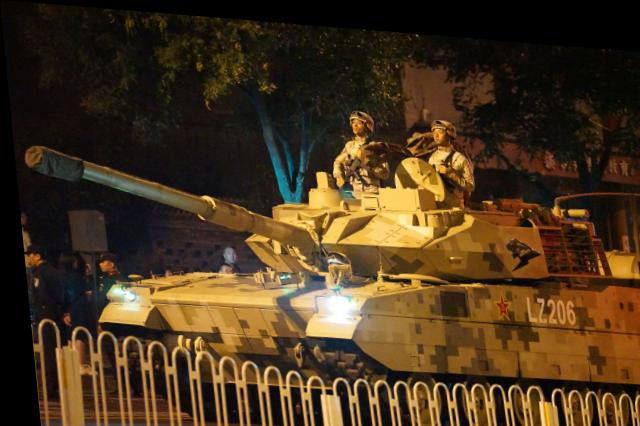other: (324, 98, 392, 183), (422, 107, 473, 204), (18, 241, 75, 326), (86, 247, 122, 321)
tank: (92, 147, 640, 424)
